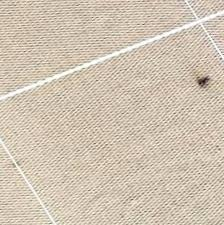stain: (192, 70, 215, 92)
